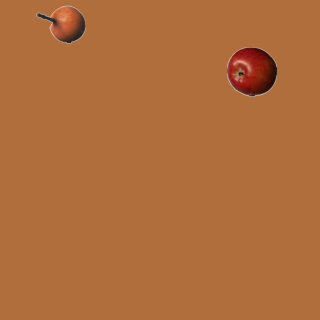Apple Braeburn: (226, 46, 276, 96)
Granadilla: (35, 0, 85, 49)
